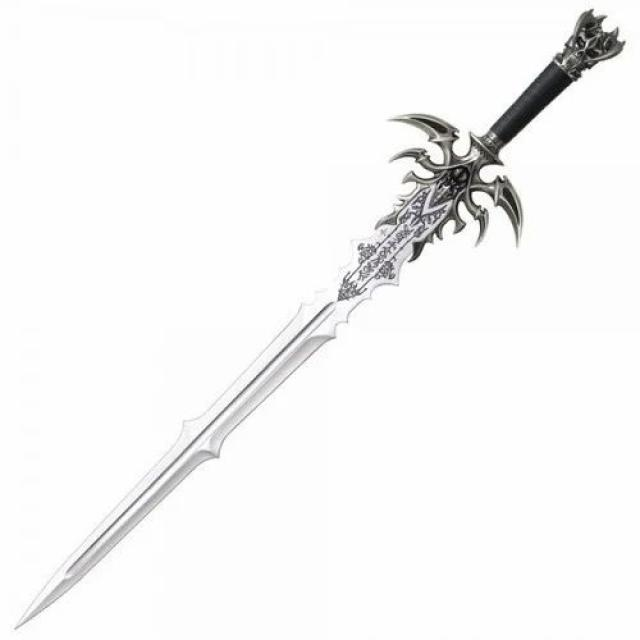Weapon: (8, 8, 635, 631)
